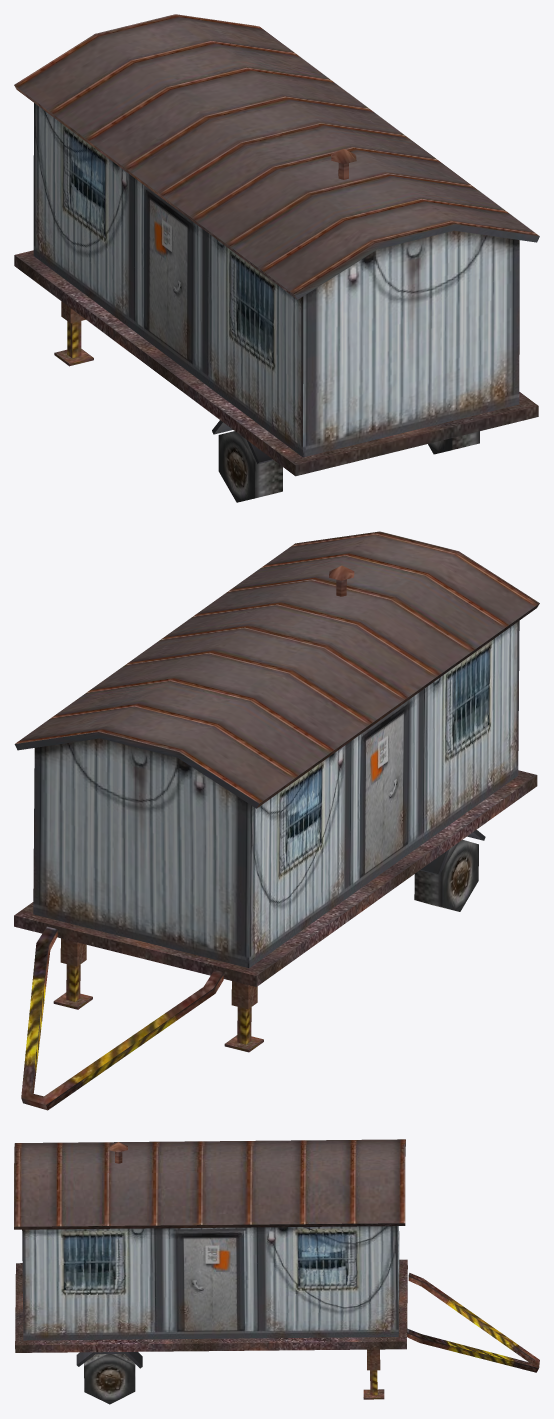
File: p54_49_trailer_site_cabin.glb
3 renders of one model, top to bottom at view 1: azimuth 30°, elevation 25°; view 2: azimuth 150°, elevation 25°; view 3: azimuth 270°, elevation 25°, orthographic. The views are drawn at different scales.
Parts seen in each view (by area): view 1: Body; view 2: Body; view 3: Body.
Part boxes in pixels (x1=…): Body: x1=14, y1=14, x2=539, y2=502; Body: x1=14, y1=531, x2=539, y2=1110; Body: x1=14, y1=1139, x2=539, y2=1404.
Size of the model in its own units: 3 by 3.77 by 7.98.
1 material, 1 textured.
